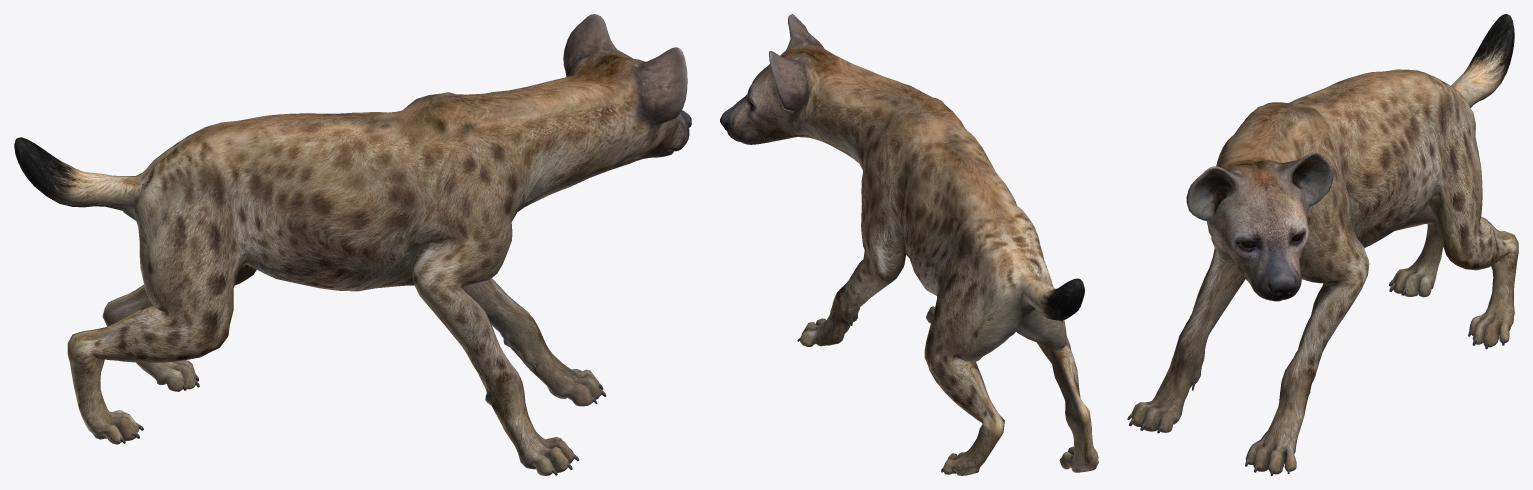
The model's file is hiena.glb.
The picture shows the model from 3 angles, left to right: view 1: azimuth 30°, elevation 25°; view 2: azimuth 150°, elevation 25°; view 3: azimuth 270°, elevation 25°; orthographic projection. The views are drawn at different scales.
Visible parts, largest first — view 1: Hyena.001_applied_clean_M_Hyena_0; view 2: Hyena.001_applied_clean_M_Hyena_0; view 3: Hyena.001_applied_clean_M_Hyena_0.
Part boxes in pixels (x1,y1,x2,y2): Hyena.001_applied_clean_M_Hyena_0: (14, 14, 691, 475); Hyena.001_applied_clean_M_Hyena_0: (720, 14, 1098, 475); Hyena.001_applied_clean_M_Hyena_0: (1127, 14, 1518, 475).
Bounding box in the file's own units: 1.7 × 1.06 × 1.11.
1 material, 1 textured.
